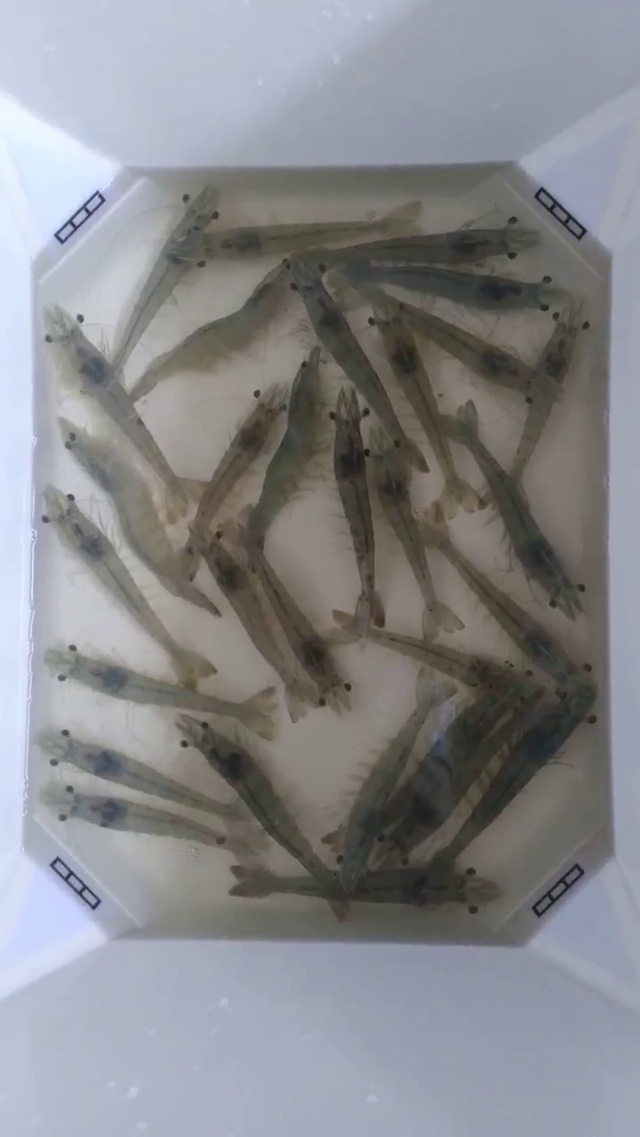shrimp: (561, 410, 639, 744), (0, 817, 128, 995), (309, 298, 428, 472), (575, 179, 639, 501), (70, 328, 184, 498), (579, 497, 639, 814), (118, 663, 237, 810), (31, 555, 126, 732), (454, 165, 565, 311), (33, 209, 138, 359), (421, 794, 524, 944), (44, 487, 158, 621), (181, 721, 273, 882), (444, 401, 530, 564), (186, 409, 273, 568), (50, 730, 169, 834), (237, 610, 327, 739), (140, 592, 236, 710), (134, 184, 217, 318), (37, 419, 122, 548), (309, 771, 381, 920), (244, 220, 373, 291), (380, 619, 506, 690), (0, 214, 33, 469), (328, 560, 384, 644)
